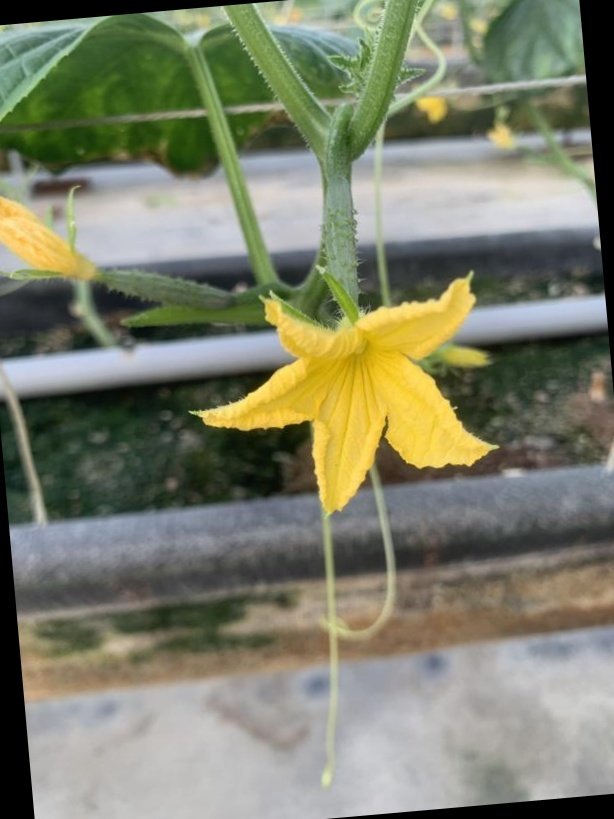flowering: (187, 158, 502, 506)
